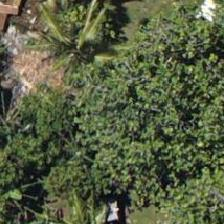coconut_tree: (27, 0, 117, 82)
